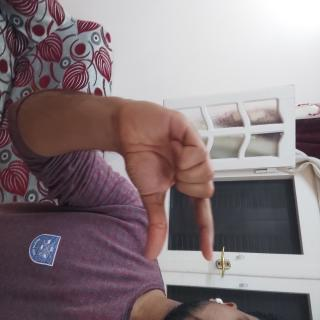DELL: (69, 128, 200, 280)
